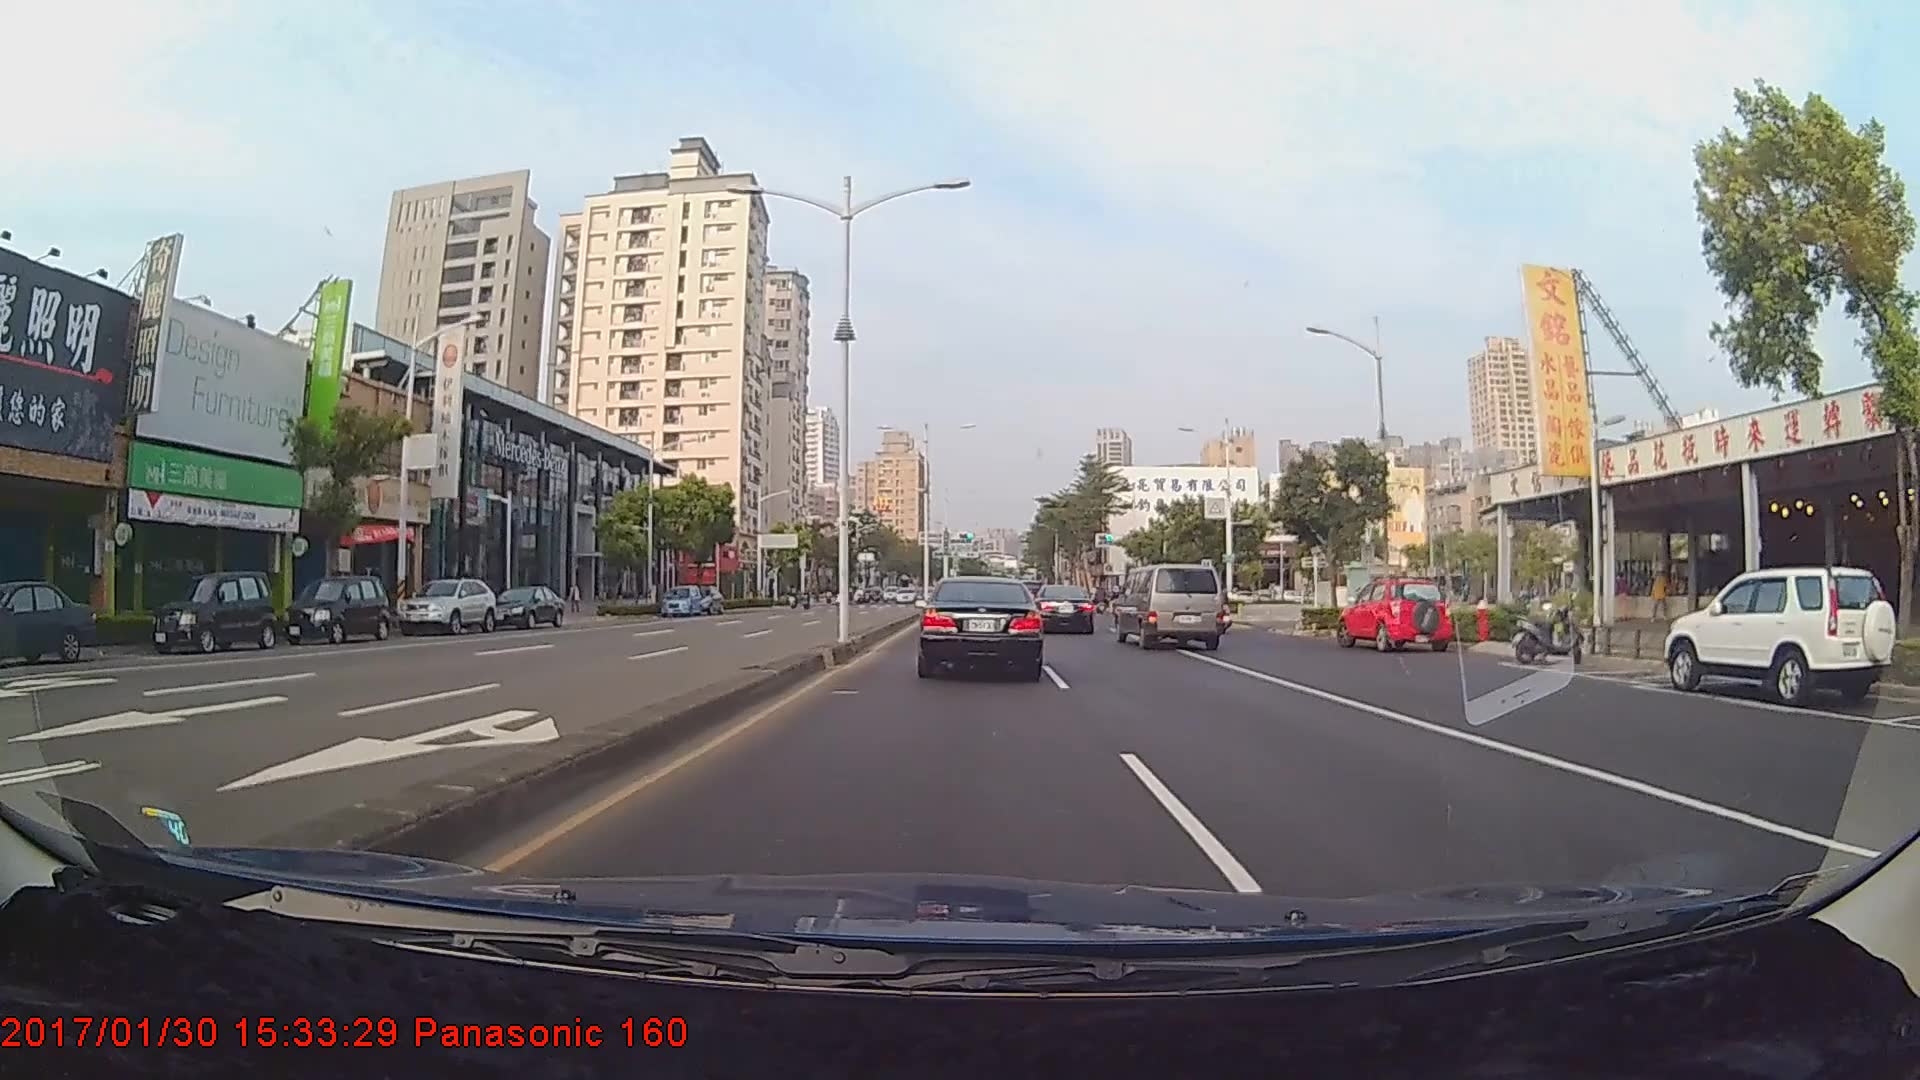vehicle: (1668, 564, 1890, 705), (916, 575, 1044, 679), (146, 572, 276, 655), (1112, 562, 1224, 651), (1338, 575, 1451, 654), (0, 582, 99, 667), (290, 575, 390, 645), (396, 578, 500, 636), (1030, 583, 1096, 636), (488, 584, 563, 630), (658, 587, 702, 617)
